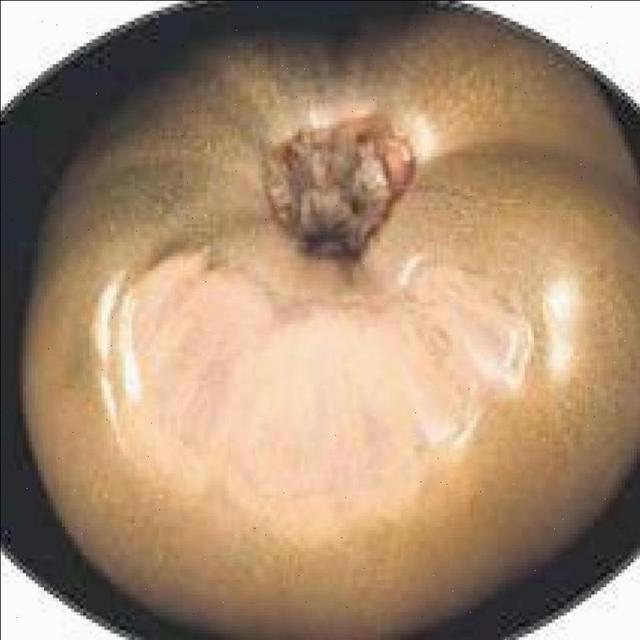Sunscald Fruit: (63, 137, 360, 367)
